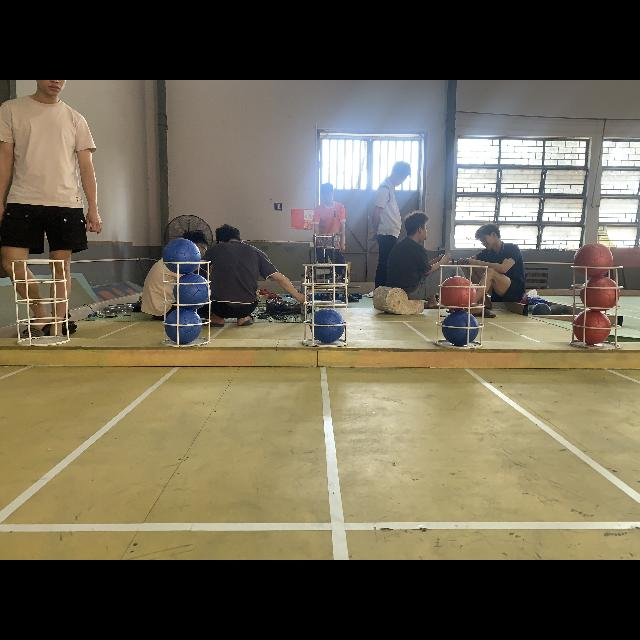B: (440, 310, 480, 346), (165, 309, 205, 343), (164, 238, 200, 274), (174, 276, 210, 308), (311, 310, 345, 342)
R: (440, 275, 478, 311), (572, 310, 612, 344), (580, 276, 620, 310), (574, 243, 614, 277), (264, 296, 268, 296)
